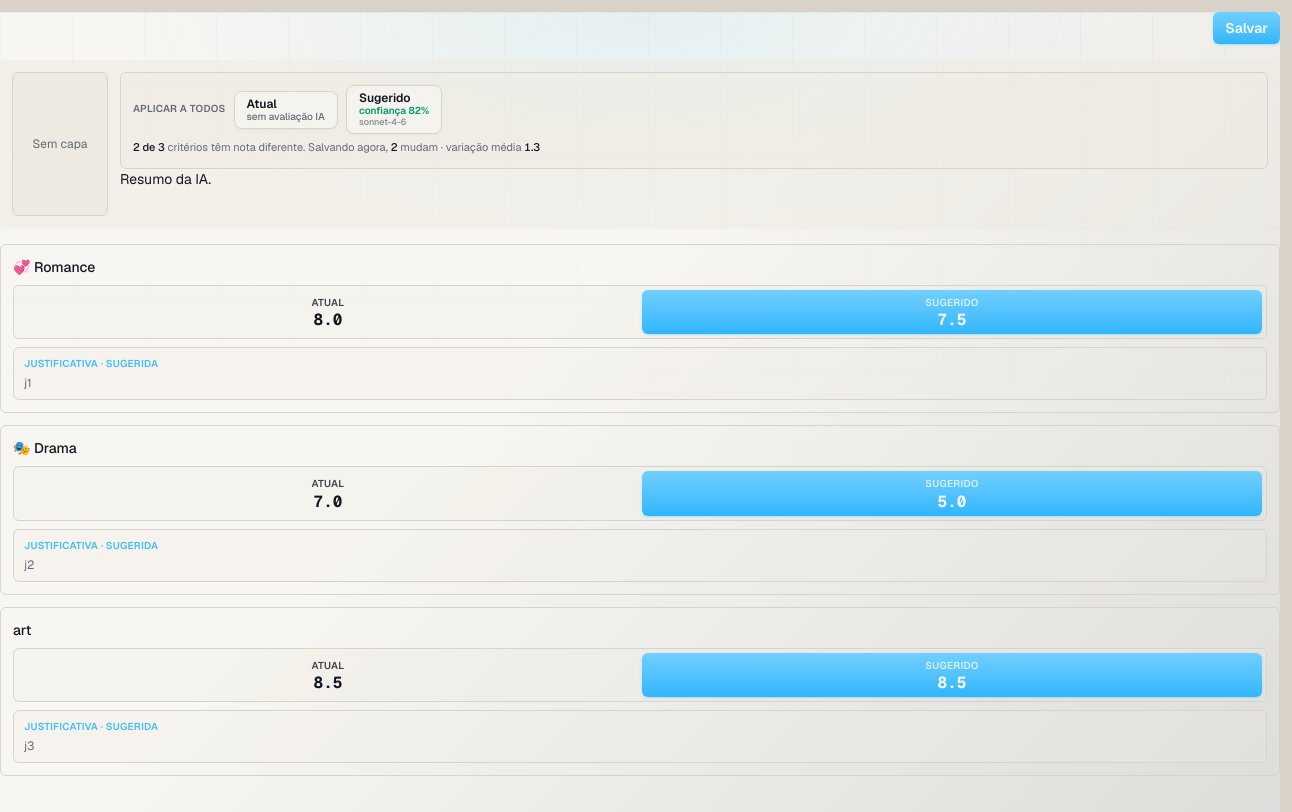
Test: Revisão da avaliação IA — aplicar a todos › conta quantos critérios diferem e quantos a gravação muda
Expected: the text "2 de 3" is shown, [133,140,165,154]
What coordinates should you click on to do the following:
click the button with aria-label "Aplicar a nota atual a todos os critérios"
I would click on:
 (286, 110)
Its box is [234,90,338,128].
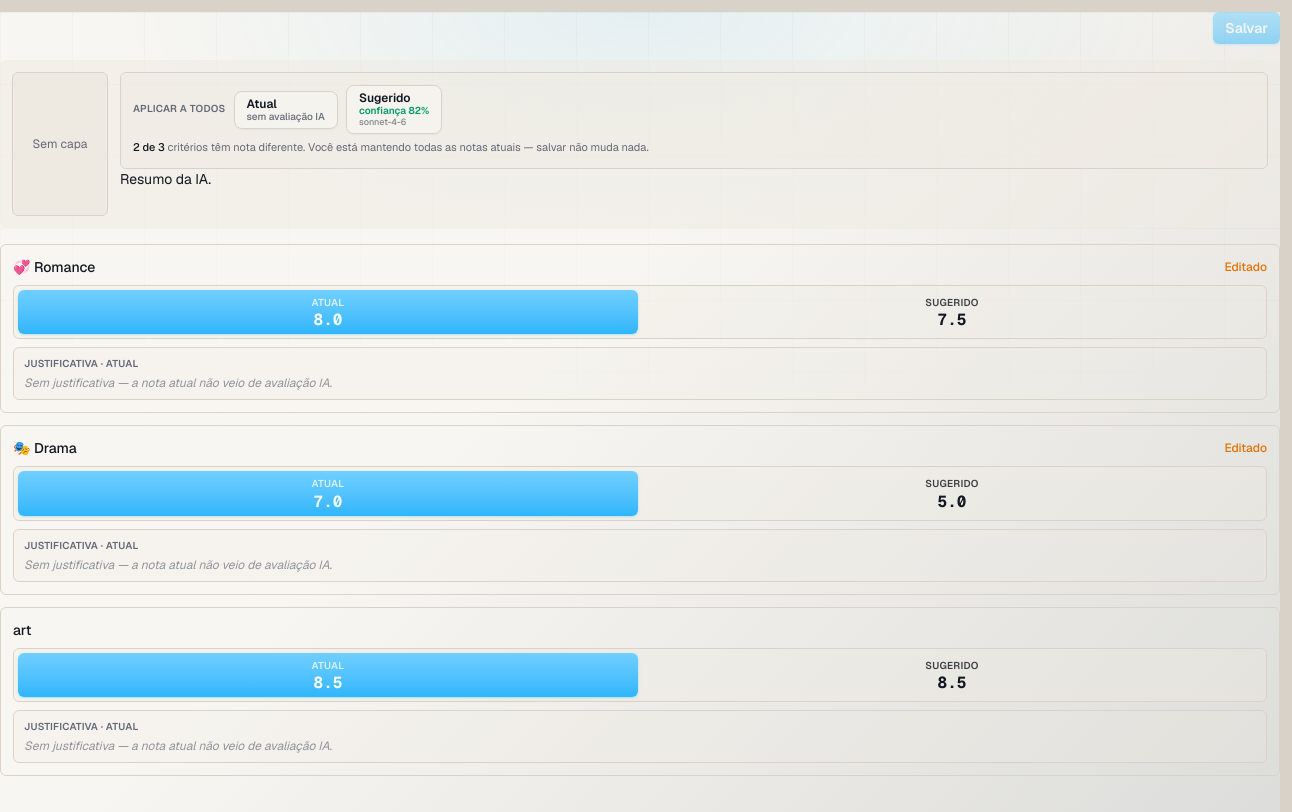
Expected: the text "salvar não muda nada" is shown, [308,140,649,154]
